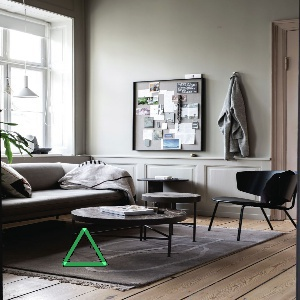triangle: (59, 225, 110, 269)
